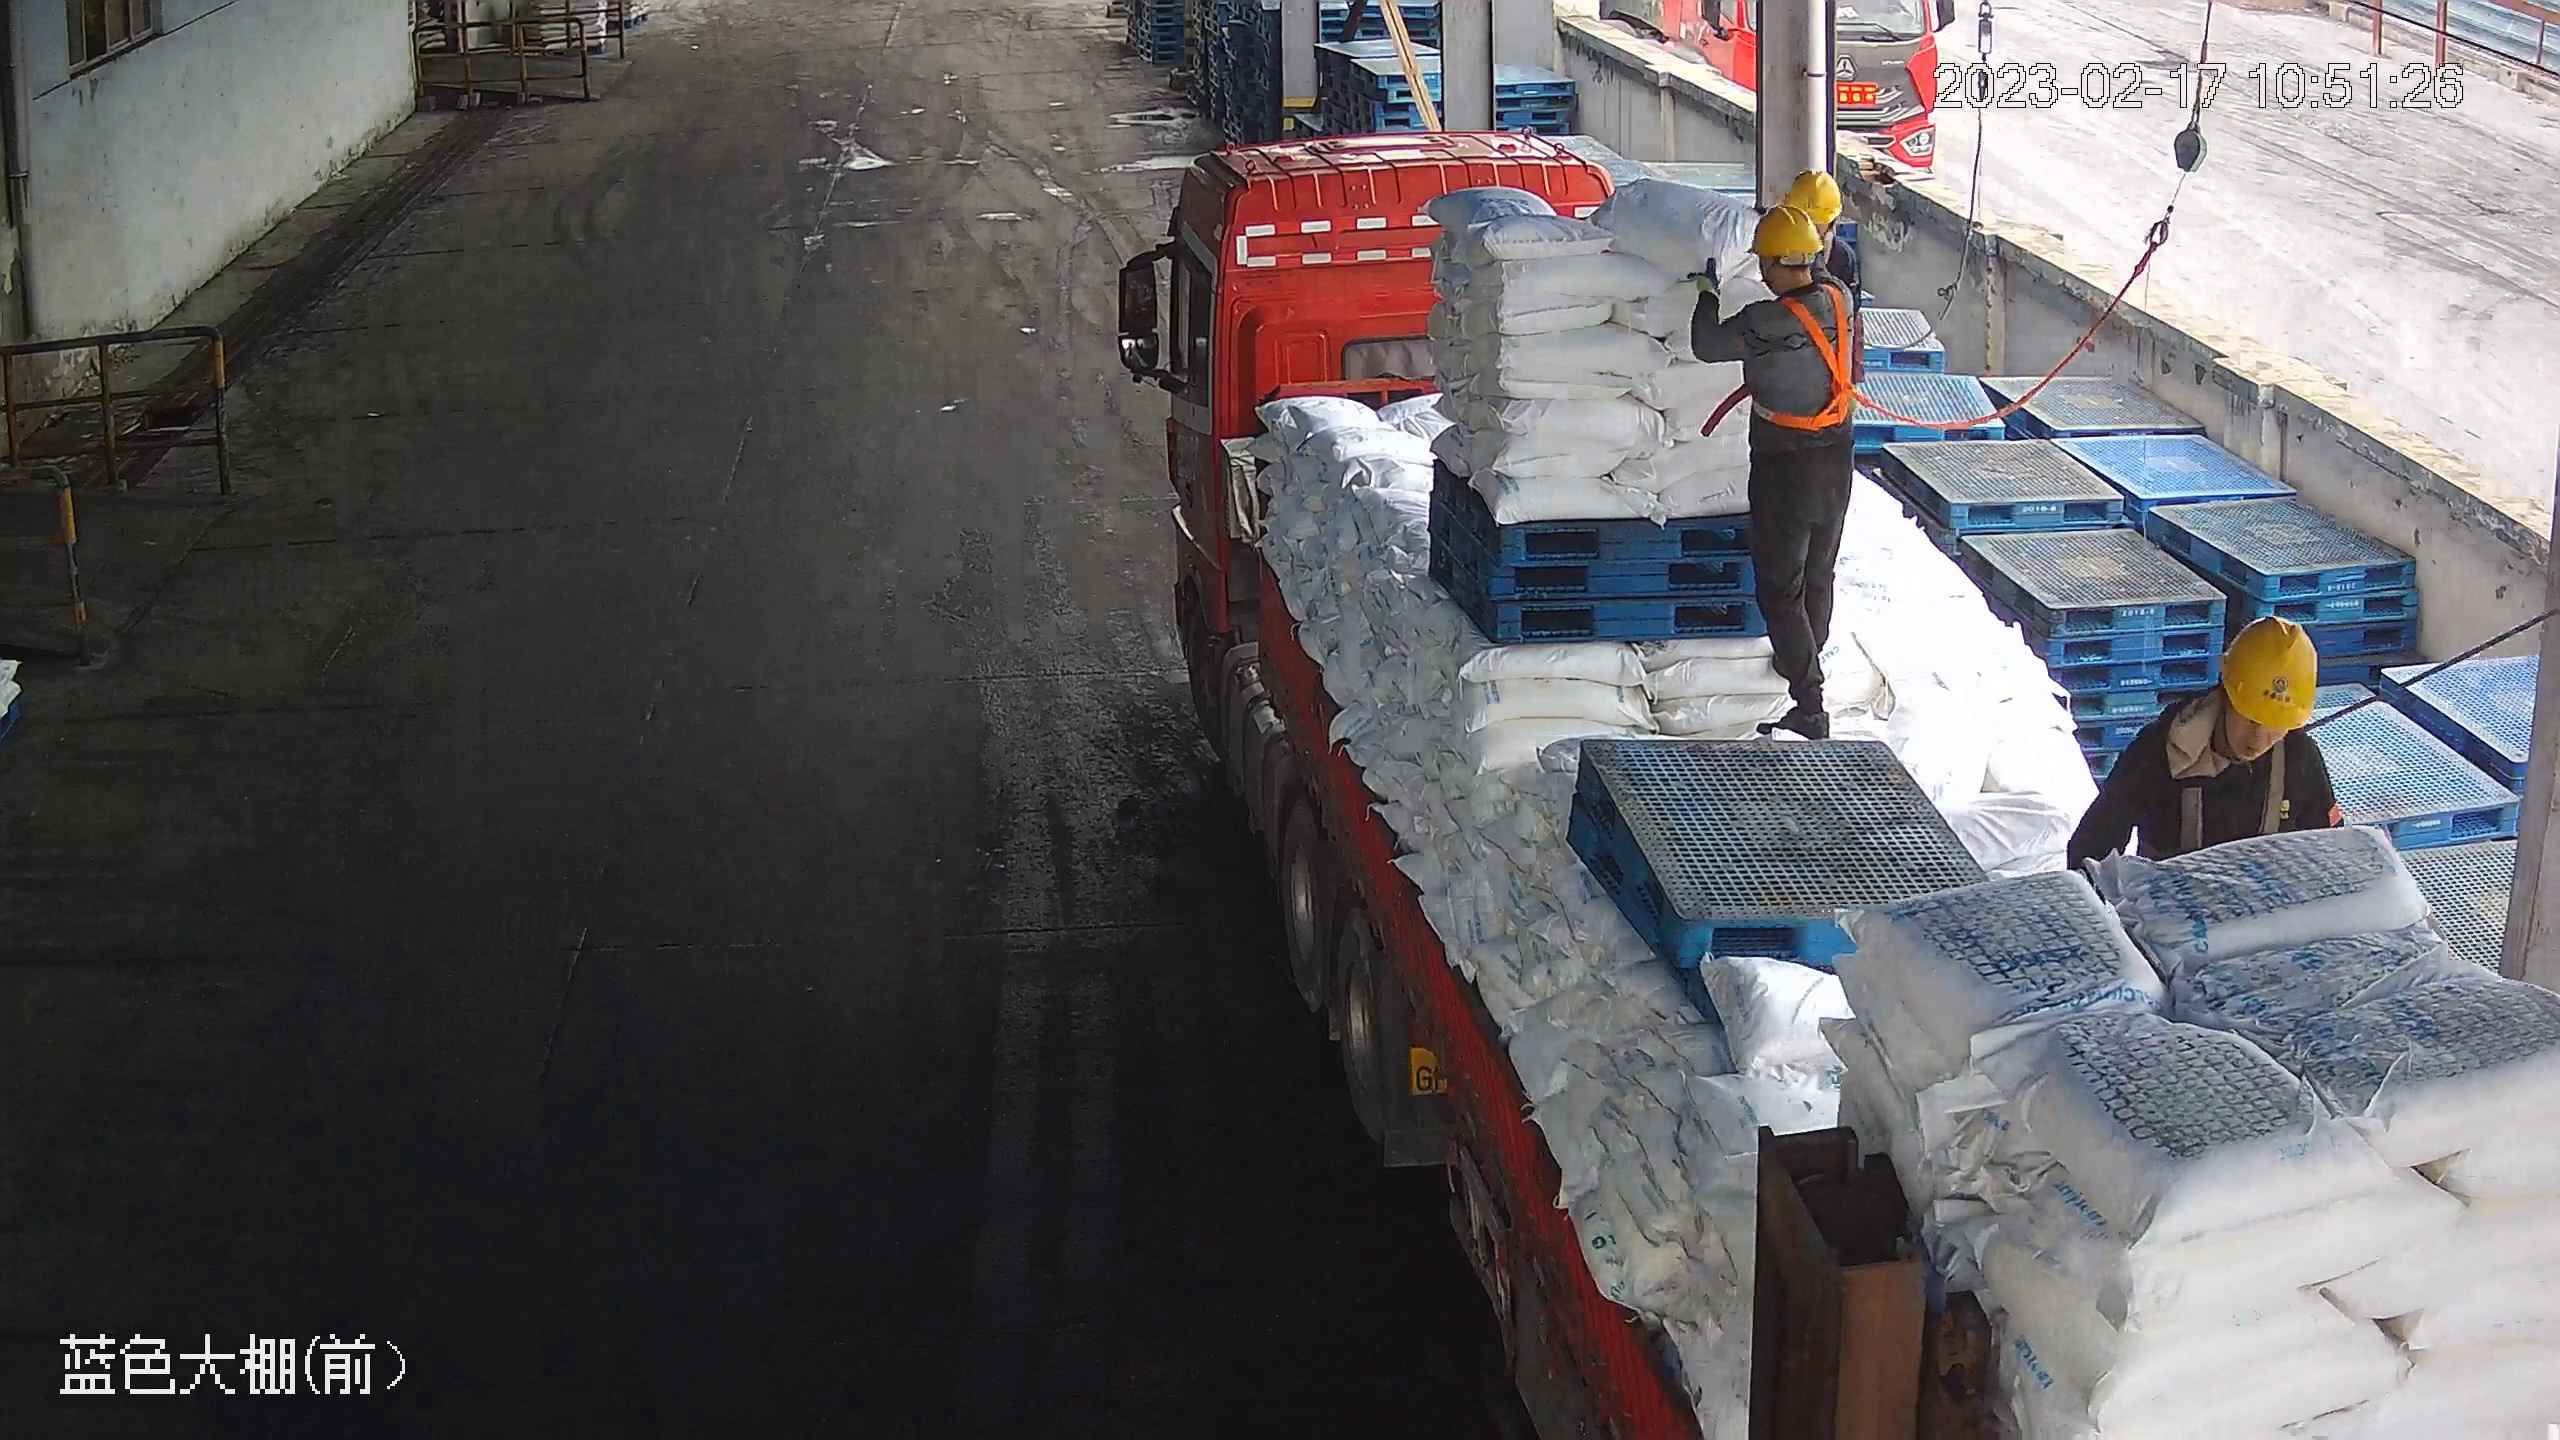belt: (1750, 280, 1875, 432), (2170, 709, 2297, 847)
head: (2119, 613, 2332, 803), (1719, 201, 1865, 350)
helmet: (2219, 613, 2322, 728), (1747, 203, 1825, 257), (1779, 165, 1844, 225)
people: (1684, 196, 1866, 745)
truck: (1102, 127, 2555, 1439)
